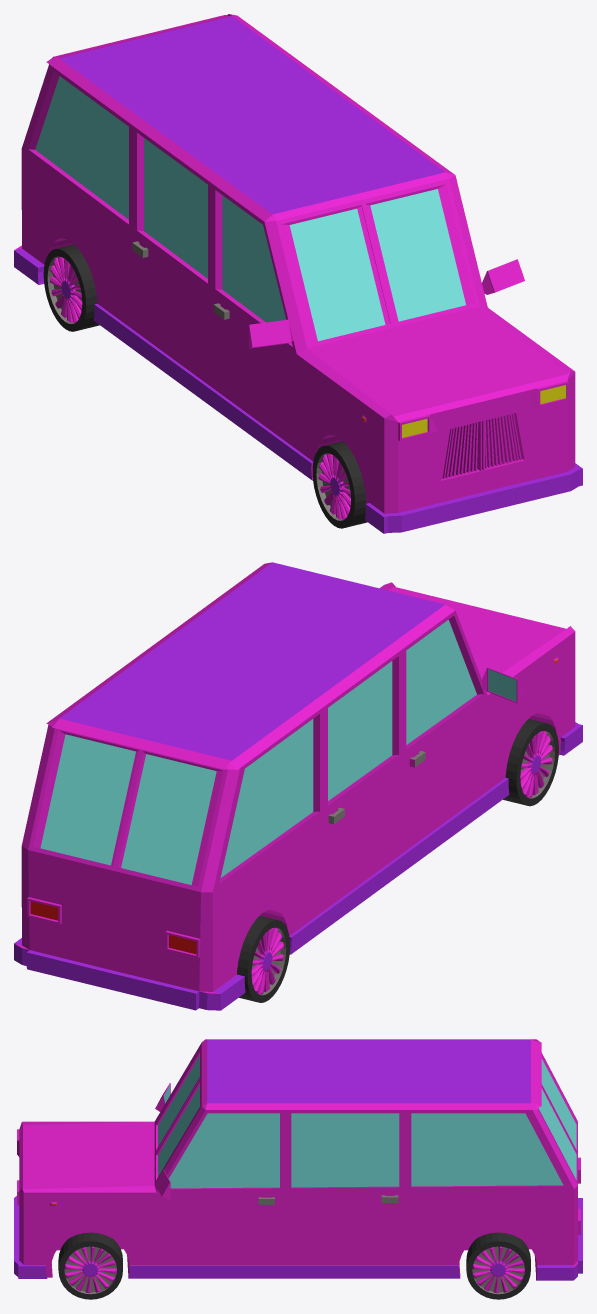
The model's file is CarSource.fbx.
3 renders of one model, top to bottom at view 1: azimuth 30°, elevation 25°; view 2: azimuth 150°, elevation 25°; view 3: azimuth 270°, elevation 25°, orthographic. The views are drawn at different scales.
Parts seen in each view (by area): view 1: Cube; view 2: Cube; view 3: Cube.
Boxes of the visible parts, x1,y1,x2,y2 form: Cube: [14, 14, 582, 533]; Cube: [14, 562, 582, 1010]; Cube: [14, 1039, 582, 1299].
Size of the model in its own units: 606 by 534 by 1444.
